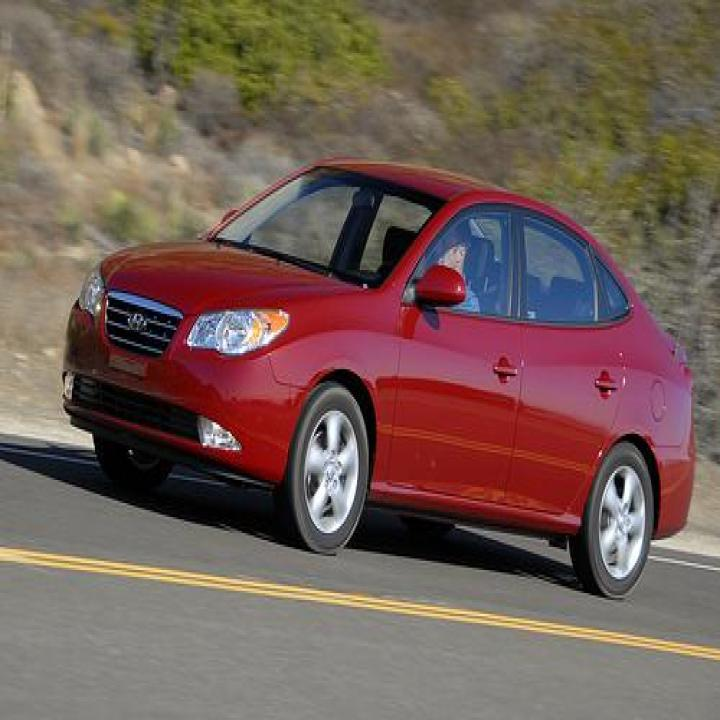car: (61, 154, 696, 598)
